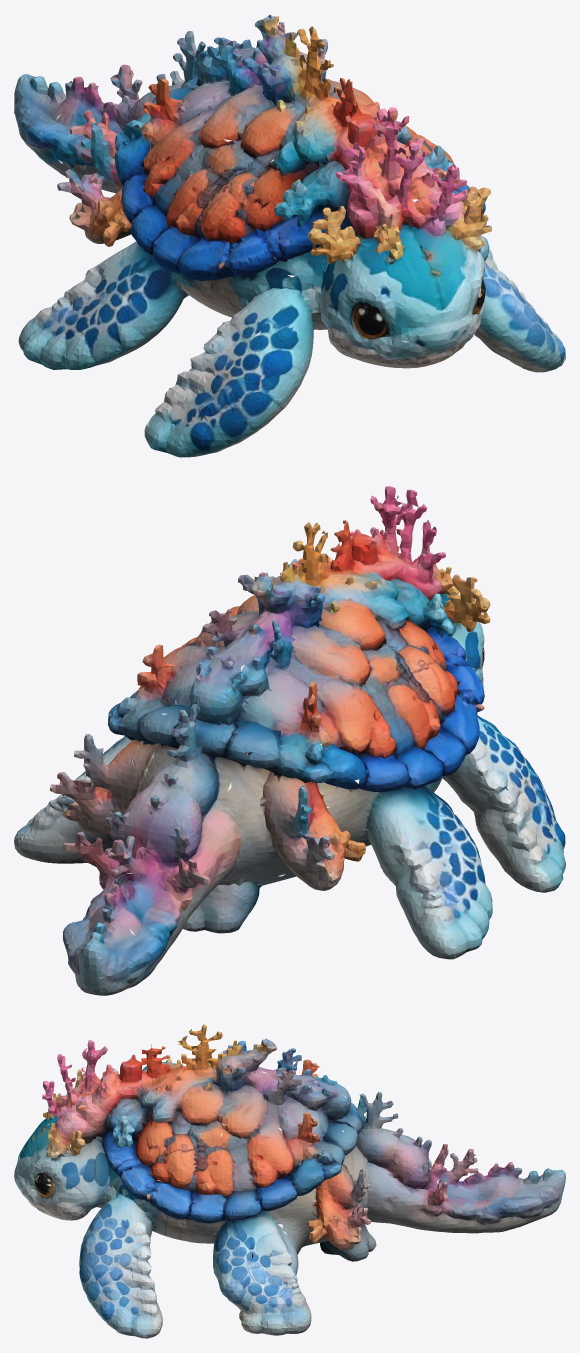
Rendered from coralith.glb.
The picture shows the model from 3 angles, top to bottom: view 1: azimuth 30°, elevation 25°; view 2: azimuth 150°, elevation 25°; view 3: azimuth 270°, elevation 25°; orthographic projection. The views are drawn at different scales.
Parts seen in each view (by area): view 1: plush; view 2: plush; view 3: plush.
Boxes of the visible parts, x1,y1,x2,y2 form: plush: (14, 15, 565, 457); plush: (14, 486, 565, 995); plush: (14, 1024, 565, 1338).
Size of the model in its own units: 0.664 by 0.4813 by 0.9791.
1 material, 1 textured.
